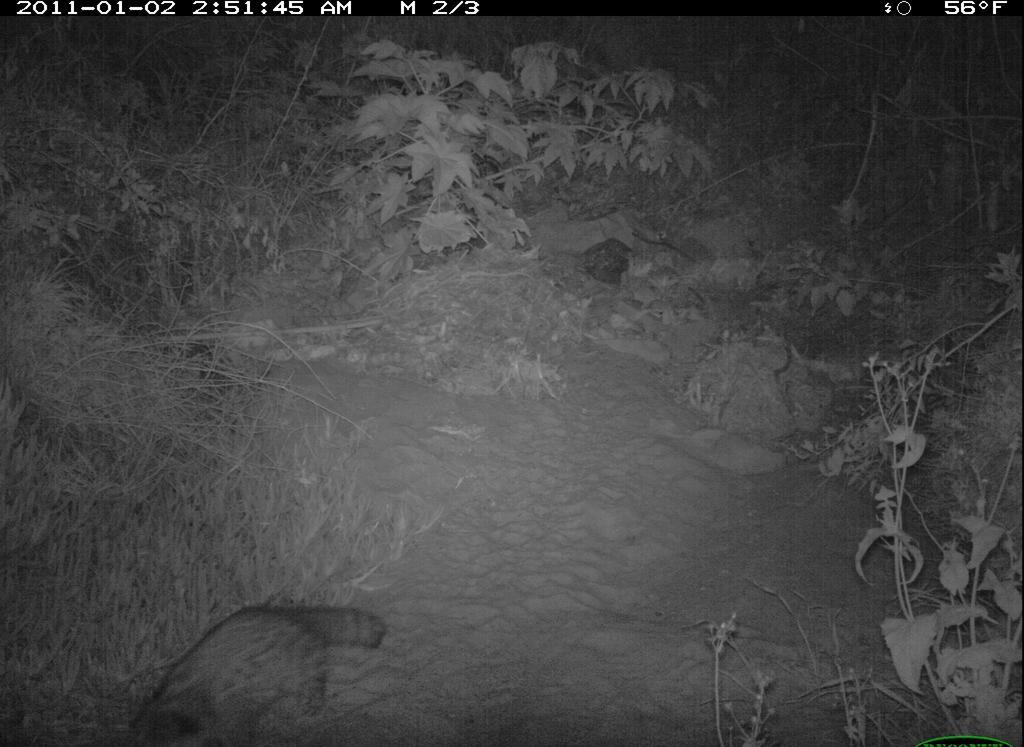raccoon: (114, 597, 402, 747)
